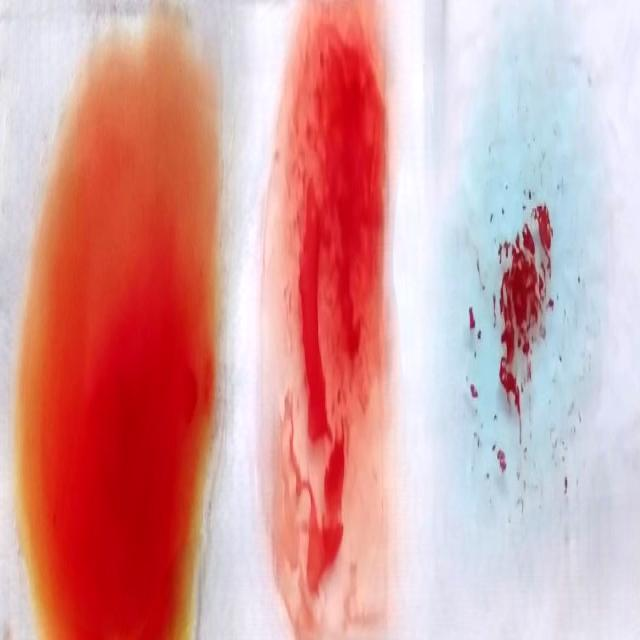A: (452, 69, 597, 522)
D: (258, 8, 388, 635)
